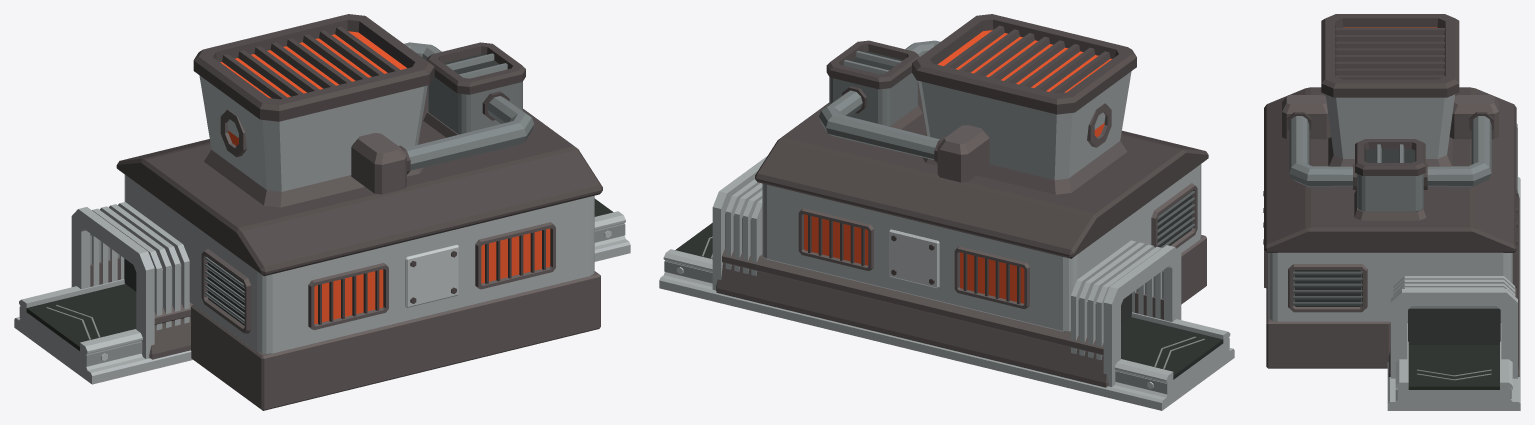
Rendered from smelter9_models.fbx.
The picture shows the model from 3 angles, left to right: view 1: azimuth 30°, elevation 25°; view 2: azimuth 150°, elevation 25°; view 3: azimuth 270°, elevation 25°; orthographic projection. The views are drawn at different scales.
Visible parts, largest first — view 1: v_smelter9, v_smelter9__h_glow; view 2: v_smelter9, v_smelter9__h_glow; view 3: v_smelter9.
Part boxes in pixels (<box>): v_smelter9: <box>14,14,630,410</box>; v_smelter9__h_glow: <box>220,31,550,324</box>; v_smelter9: <box>659,14,1234,410</box>; v_smelter9__h_glow: <box>804,30,1111,303</box>; v_smelter9: <box>1263,14,1520,410</box>.
Size of the model in its own units: 12 by 5.74 by 5.81.
Materials: 1 (1 with a texture image).
